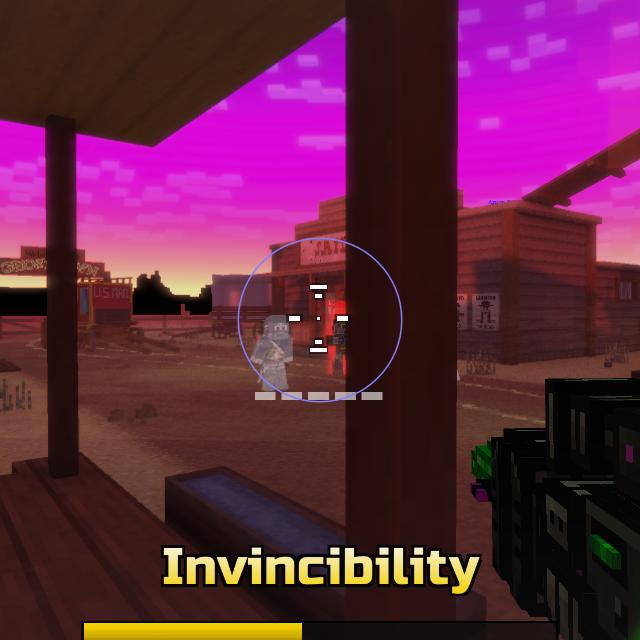Enemy: (325, 319, 346, 376)
